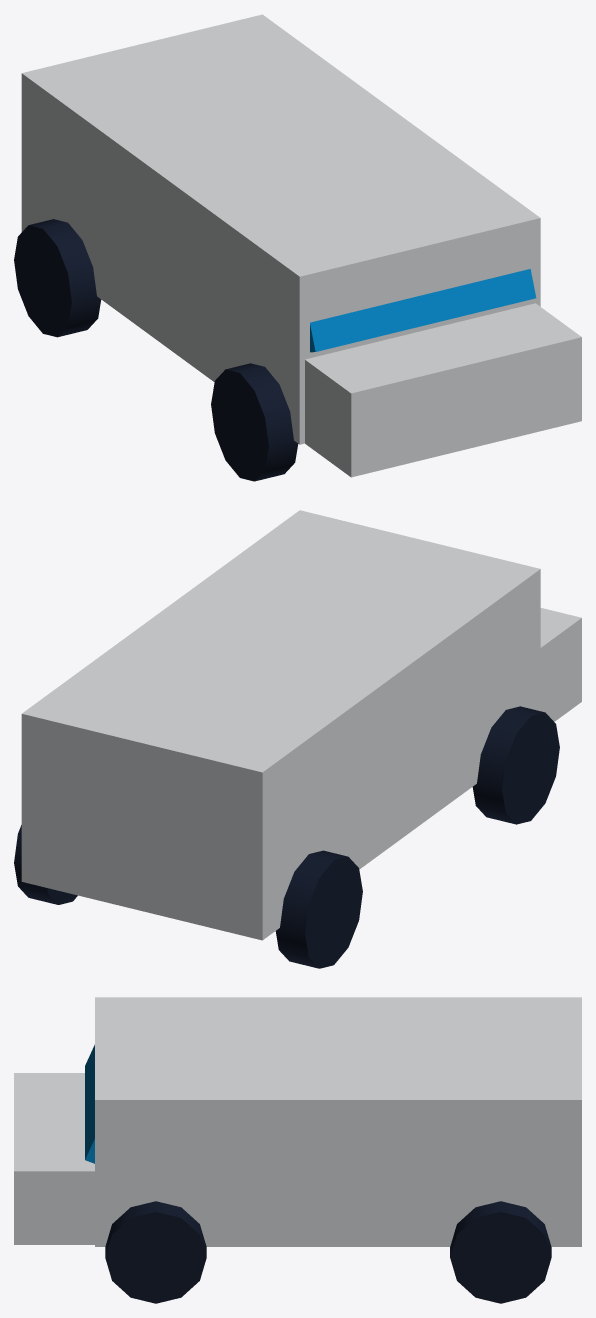
File: vehicle_van.glb
The picture shows the model from 3 angles, top to bottom: view 1: azimuth 30°, elevation 25°; view 2: azimuth 150°, elevation 25°; view 3: azimuth 270°, elevation 25°; orthographic projection. The views are drawn at different scales.
Visible parts, largest first — view 1: Vehicle_Van; view 2: Vehicle_Van; view 3: Vehicle_Van.
Boxes of the visible parts, left/top/right/bottom form: Vehicle_Van: left=14, top=14, right=581, bottom=481; Vehicle_Van: left=14, top=510, right=581, bottom=968; Vehicle_Van: left=14, top=997, right=581, bottom=1303.
Bounding box in the file's own units: 0.29 × 0.21 × 0.56.
